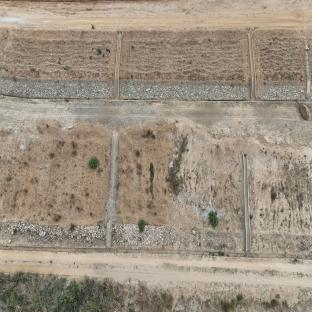rock_toe: (113, 224, 244, 251), (0, 220, 105, 246), (0, 77, 114, 98), (119, 82, 250, 99), (252, 232, 312, 255), (257, 83, 306, 99)
slope_drain: (104, 131, 118, 248), (243, 154, 251, 252), (247, 32, 256, 100), (114, 31, 122, 99), (305, 51, 312, 99)
toe_drain: (0, 243, 312, 261), (2, 93, 312, 103)
